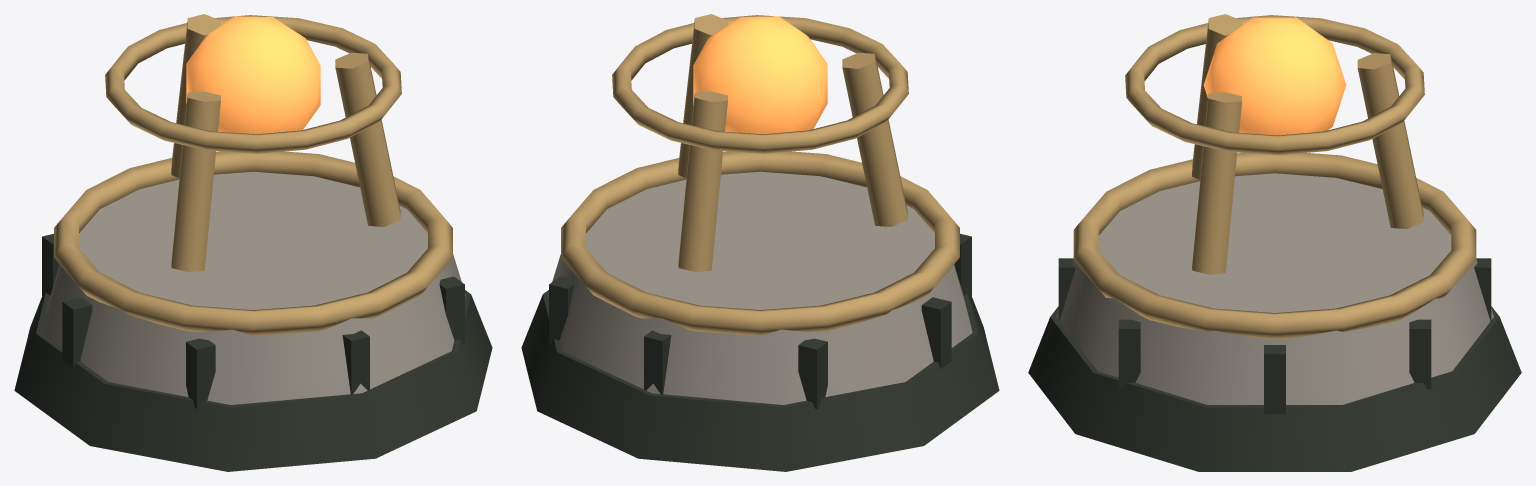
Rendered from tower_meteor.glb.
3 views of the same model, side by side, from view 1: azimuth 30°, elevation 25°; view 2: azimuth 150°, elevation 25°; view 3: azimuth 270°, elevation 25° (orthographic).
Visible parts, largest first — view 1: stone_1, foot_0, rim_2, meteor_14, armillary_15, claw_13, claw_12, claw_11, mortar_6, mortar_7, mortar_5, mortar_4 (+1 smaller); view 2: stone_1, foot_0, rim_2, meteor_14, armillary_15, claw_11, claw_13, mortar_8, claw_12, mortar_7, mortar_9, mortar_10 (+1 smaller); view 3: stone_1, foot_0, rim_2, meteor_14, armillary_15, claw_12, claw_11, claw_13, mortar_3, mortar_4, mortar_10, mortar_5 (+1 smaller).
Boxes of the visible parts, x1,y1,x2,y2 form: stone_1: (41, 171, 465, 404); foot_0: (14, 290, 492, 471); rim_2: (54, 151, 452, 335); meteor_14: (186, 16, 320, 134); armillary_15: (105, 15, 401, 153); claw_13: (171, 91, 220, 271); claw_12: (335, 52, 400, 226); claw_11: (171, 14, 220, 178); mortar_6: (186, 338, 215, 408); mortar_7: (62, 297, 92, 368); mortar_5: (342, 330, 369, 394); mortar_4: (439, 276, 464, 344); stone_1: (548, 171, 972, 404); foot_0: (521, 290, 999, 471); rim_2: (561, 151, 959, 335); meteor_14: (693, 16, 827, 152); armillary_15: (612, 15, 908, 153); claw_11: (678, 91, 727, 271); claw_13: (842, 52, 907, 226); mortar_8: (798, 338, 827, 408); claw_12: (678, 14, 727, 178); mortar_7: (921, 297, 951, 368); mortar_9: (644, 330, 671, 394); mortar_10: (549, 276, 574, 344); stone_1: (1056, 173, 1493, 404); foot_0: (1028, 306, 1521, 471); rim_2: (1073, 153, 1476, 339); meteor_14: (1203, 17, 1346, 135); armillary_15: (1125, 15, 1424, 155); claw_12: (1192, 92, 1242, 274); claw_11: (1357, 53, 1423, 228); claw_13: (1192, 14, 1242, 179); mortar_3: (1264, 345, 1285, 414); mortar_4: (1118, 319, 1140, 388); mortar_10: (1409, 319, 1431, 388); mortar_5: (1058, 258, 1075, 321).
Size of the model in its own units: 0.5326 by 0.441 by 0.56.
